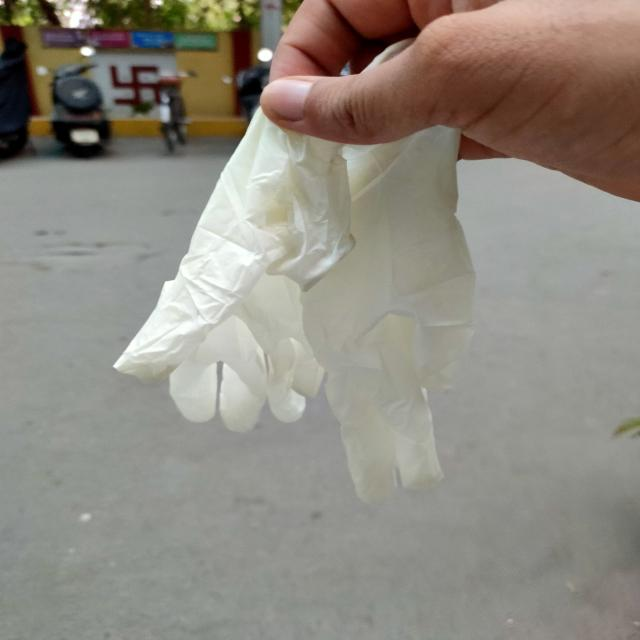B3: (120, 117, 485, 510)
